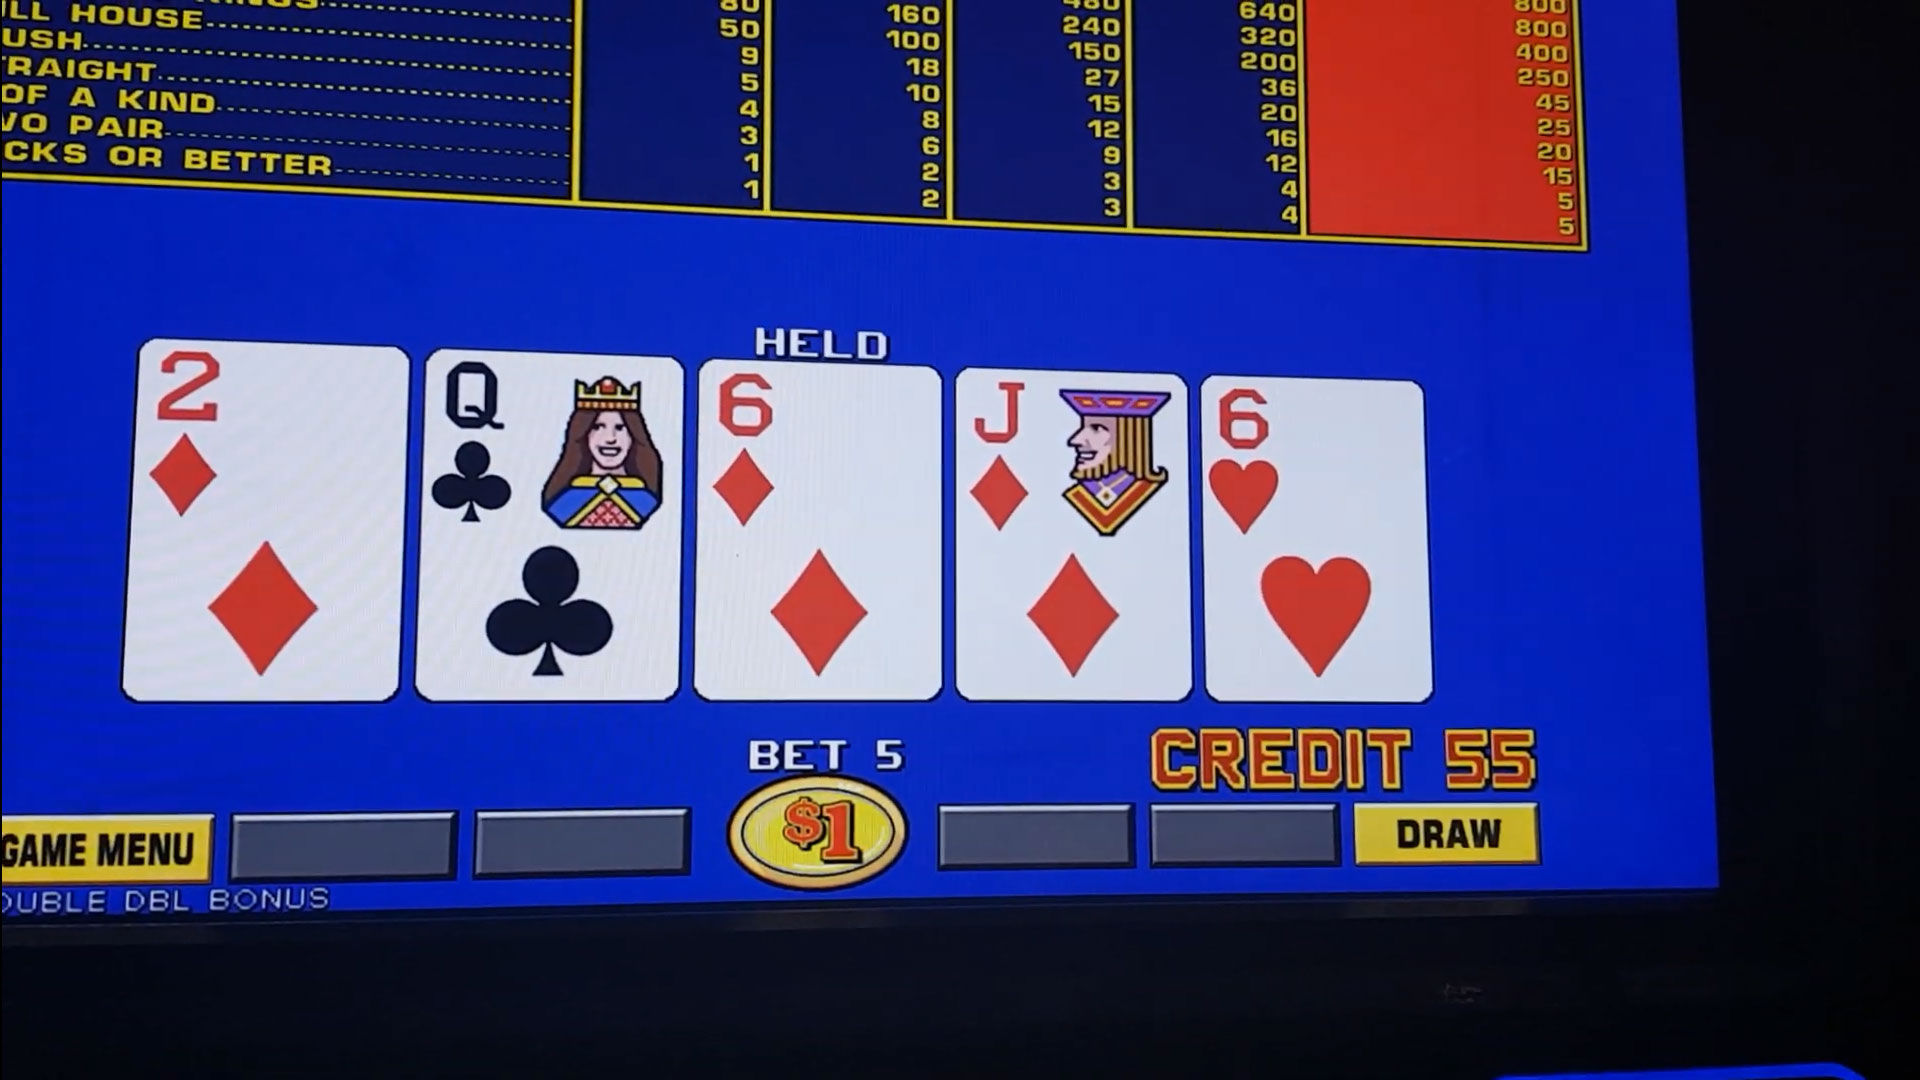CQ: (426, 361, 680, 539)
D2: (145, 353, 405, 529)
D6: (709, 368, 936, 547)
DJ: (959, 377, 1185, 555)
H6: (1201, 375, 1420, 553)
